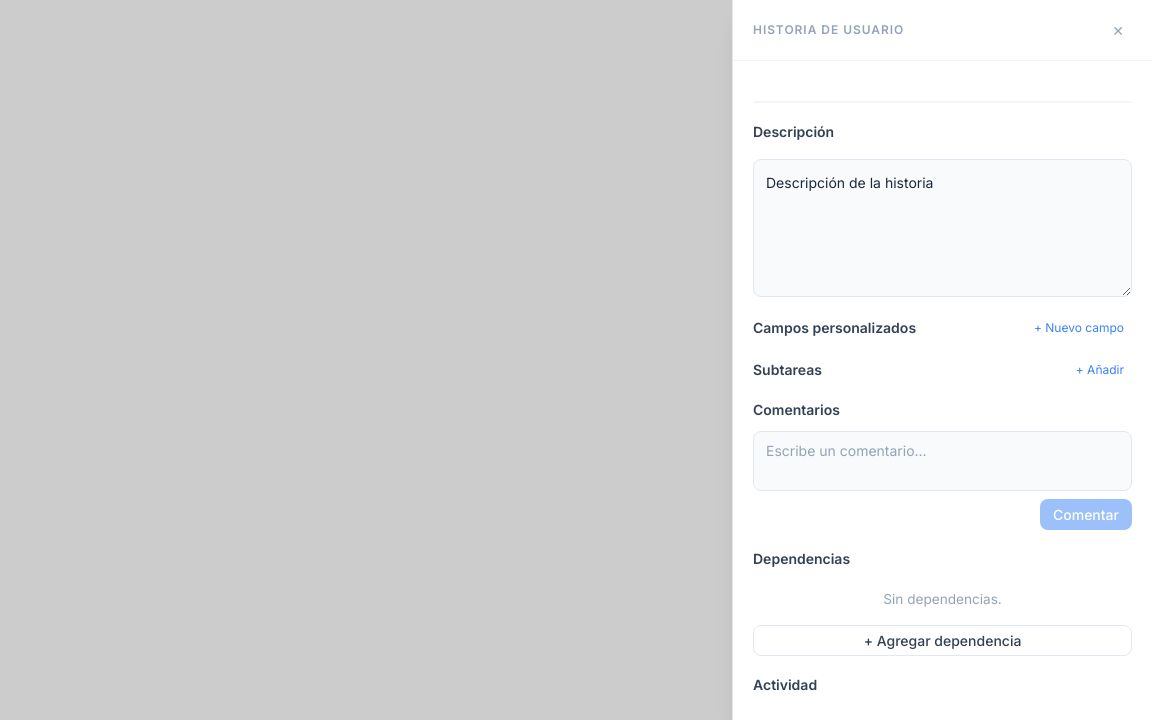
Test: UserStoryDetailPanel › shows inline task input when Añadir is clicked
Click the button "+ Añadir".
click(1100, 370)  # box left=1068, top=359, right=1132, bottom=381
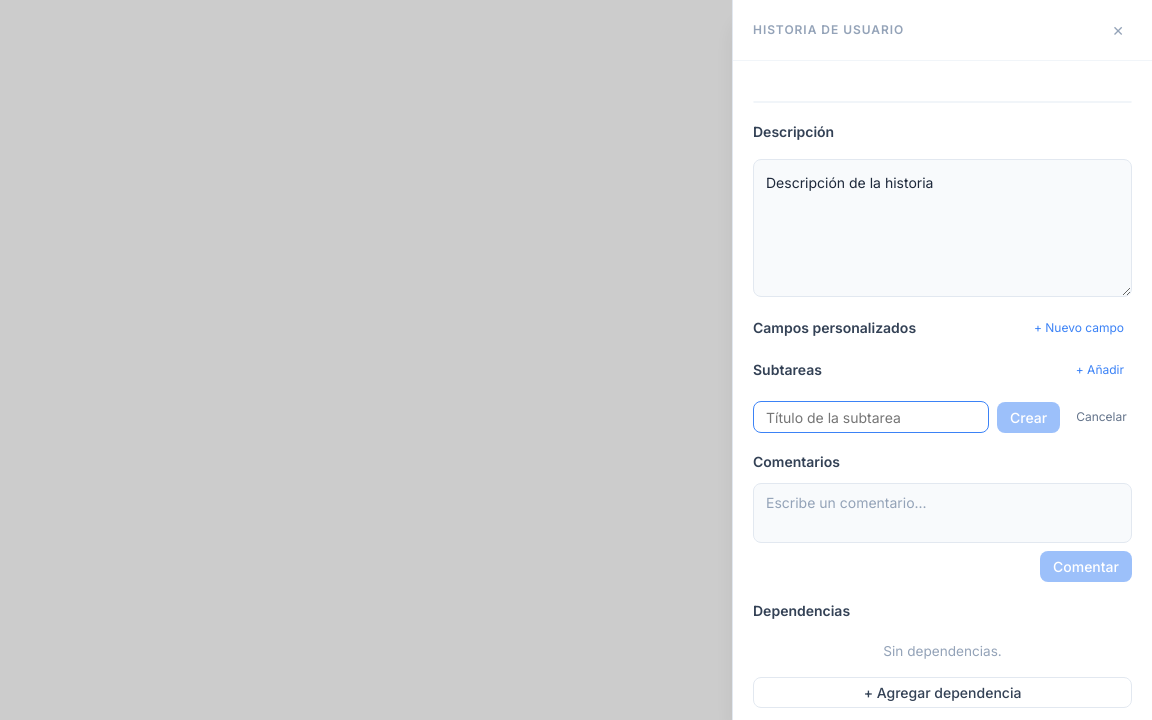
Expected: the field with placeholder "Título de la subtarea" is shown, left=753, top=401, right=989, bottom=433
